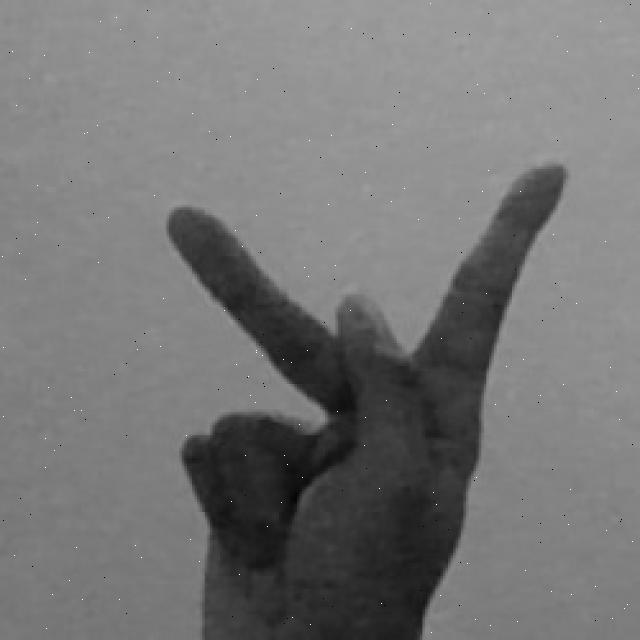K: (163, 158, 568, 640)
